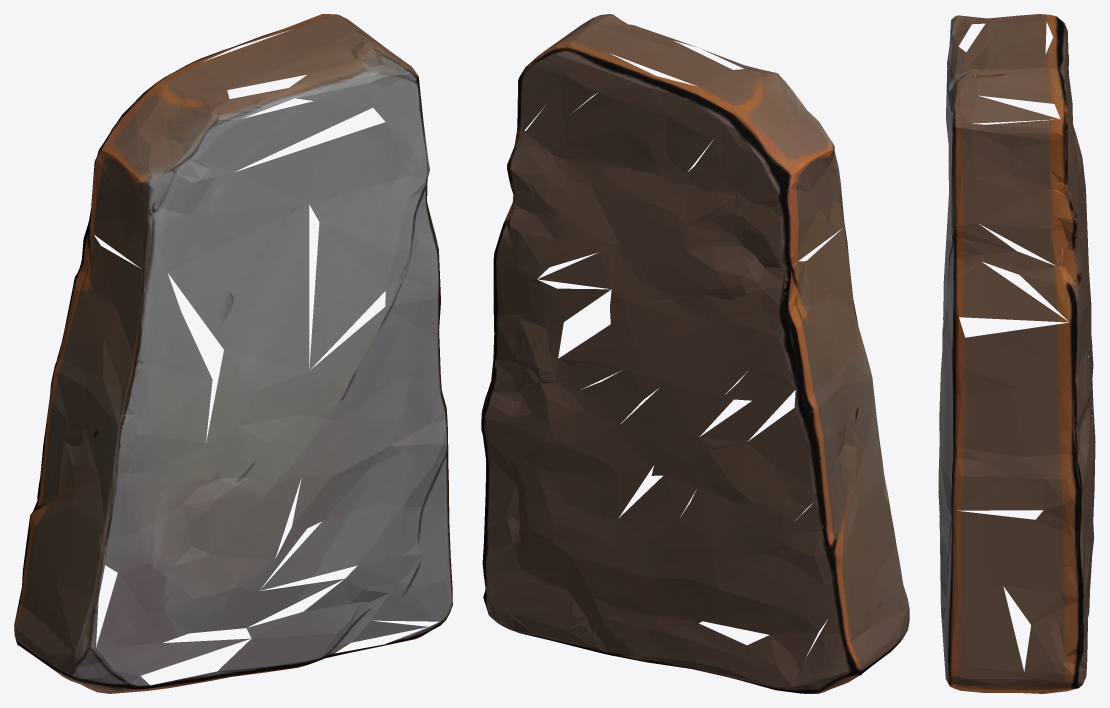
Rendered from menhir.glb.
3 renders of one model, left to right at view 1: azimuth 30°, elevation 25°; view 2: azimuth 150°, elevation 25°; view 3: azimuth 270°, elevation 25°, orthographic.
Parts seen in each view (by area): view 1: geometry_0; view 2: geometry_0; view 3: geometry_0.
Part boxes in pixels (box(x1,y1,x2,y2)): geometry_0: box(14, 14, 452, 693); geometry_0: box(481, 14, 909, 693); geometry_0: box(938, 14, 1095, 693).
Bounding box in the file's own units: 1.19 × 1.8 × 0.4267.
1 material, 1 textured.
